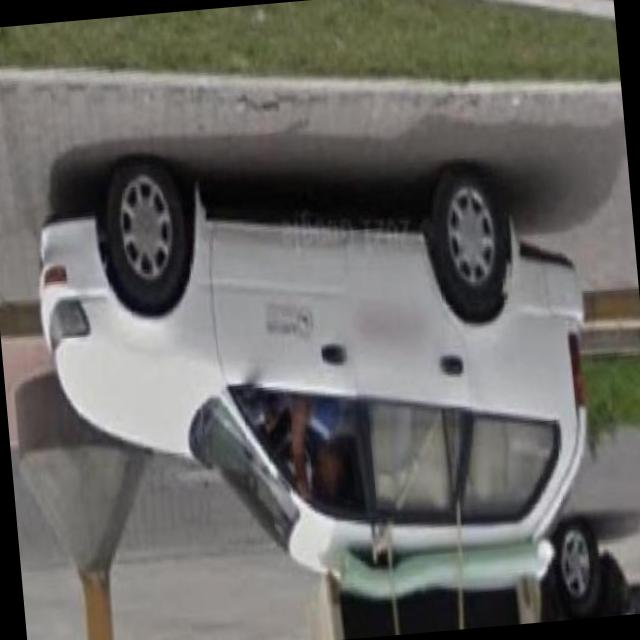car: (24, 126, 606, 617)
